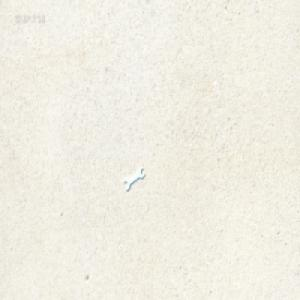Wrench: (123, 167, 145, 193)
